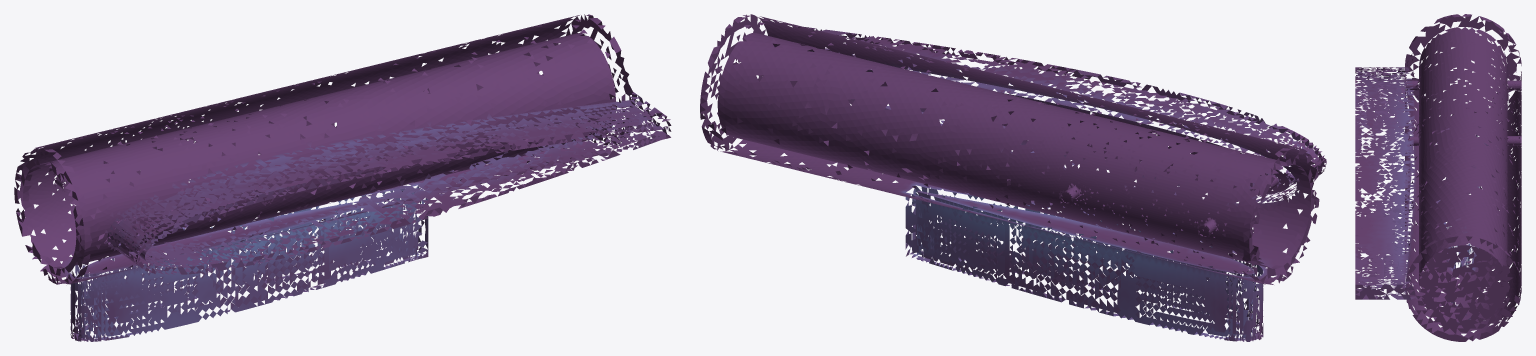
The picture shows the model from 3 angles, left to right: view 1: azimuth 30°, elevation 25°; view 2: azimuth 150°, elevation 25°; view 3: azimuth 270°, elevation 25°; orthographic projection. The views are drawn at different scales.
Visible parts, largest first — view 1: geometry_0; view 2: geometry_0; view 3: geometry_0.
Boxes of the visible parts, x1=… form: geometry_0: x1=14, y1=14, x2=671, y2=341; geometry_0: x1=700, y1=14, x2=1326, y2=341; geometry_0: x1=1355, y1=14, x2=1521, y2=341.
Size of the model in its own units: 182 by 60 by 57.
